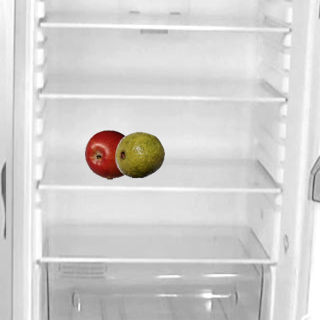Apple Braeburn: (84, 129, 134, 179)
Guava: (114, 129, 164, 179)
